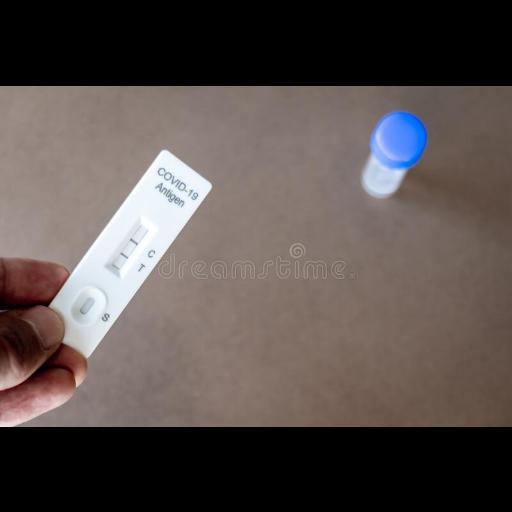Pos: (37, 147, 215, 361)
